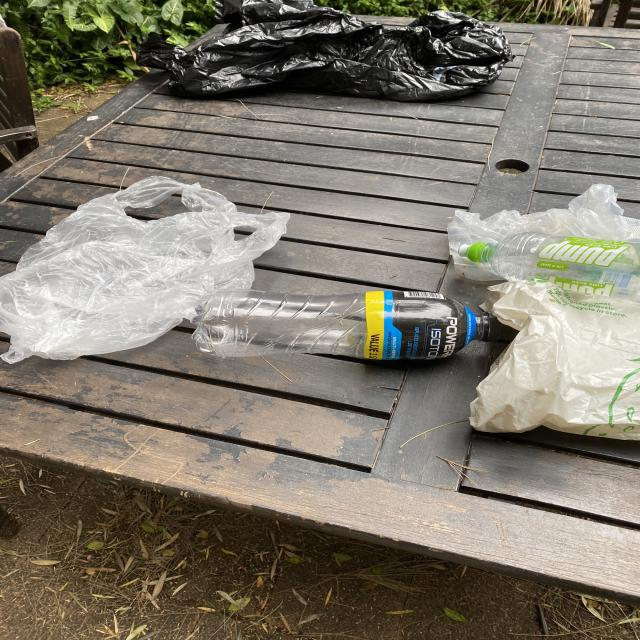bag: (0, 175, 290, 363), (135, 0, 516, 102), (468, 278, 640, 441), (447, 183, 640, 256)
bottle: (192, 288, 498, 361), (457, 232, 640, 298)
